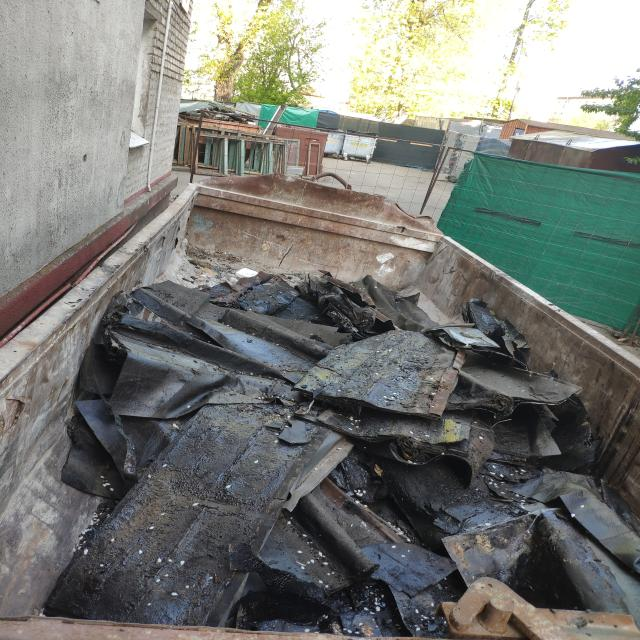entulho: (45, 416, 322, 624), (100, 282, 334, 426), (253, 469, 446, 598), (442, 505, 640, 620), (274, 389, 466, 505), (313, 323, 474, 419), (447, 358, 583, 425), (539, 478, 640, 567), (63, 397, 140, 506), (358, 274, 442, 332)
